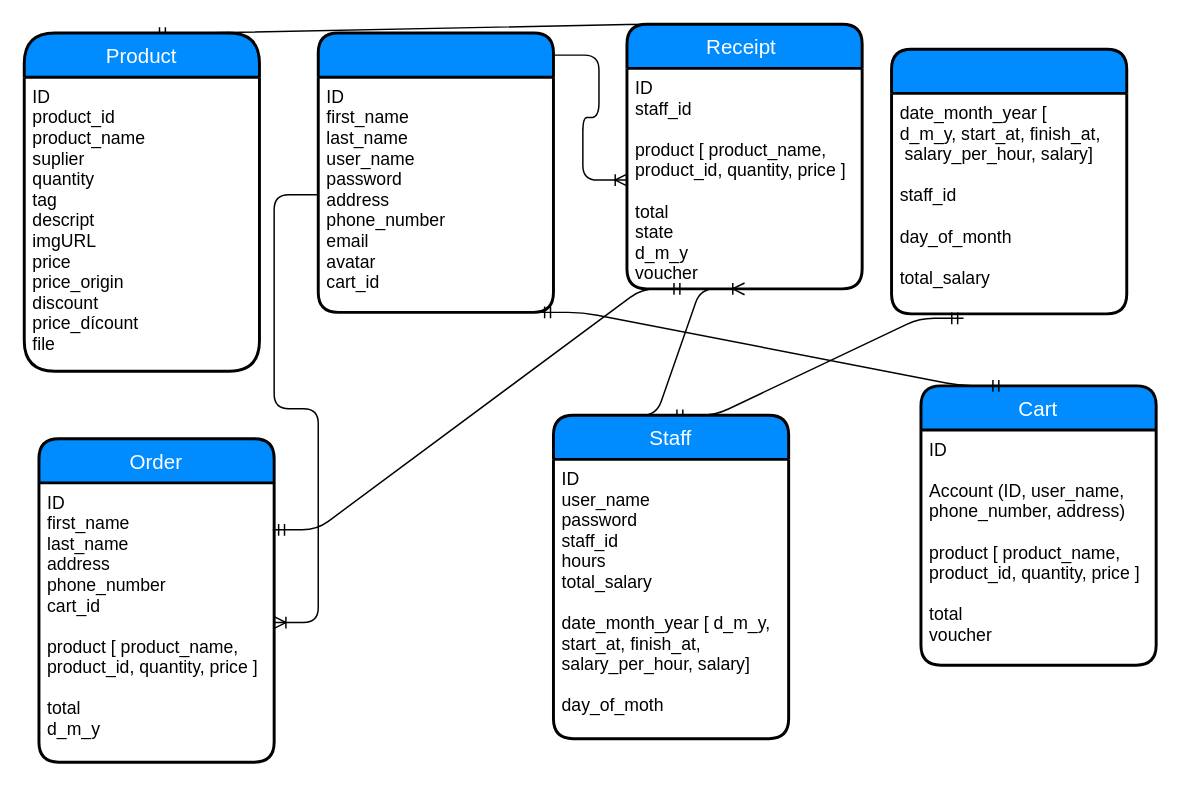
This 1180x786 diagram has some shape labels left out. The box of each missing label's shape, as (x1, y1, x2, y2) in pixels:
Account: (316, 31, 554, 313)
WorkingHours: (889, 47, 1127, 315)
